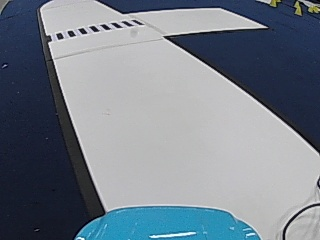CrossWalk: (51, 18, 142, 41)
